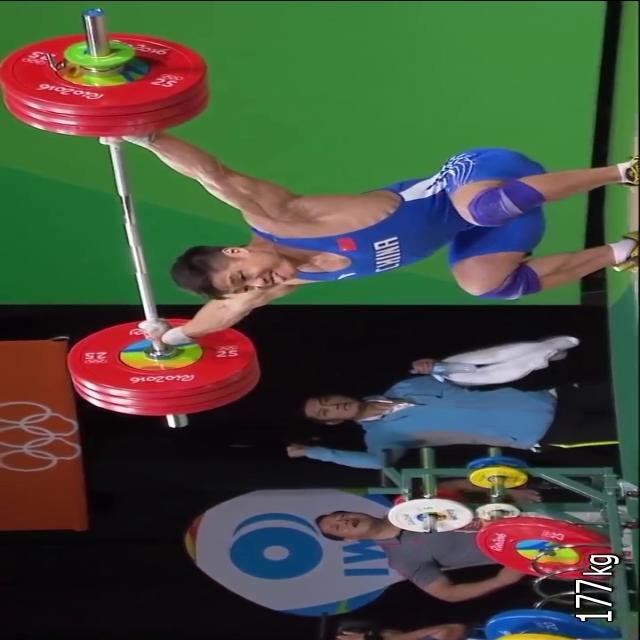NonViolence: (140, 130, 640, 348)
